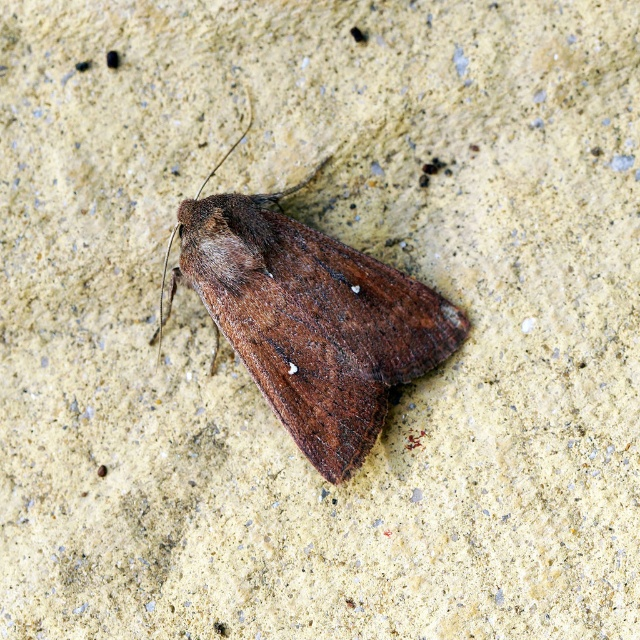Moths and butterflies: (150, 115, 475, 485)
